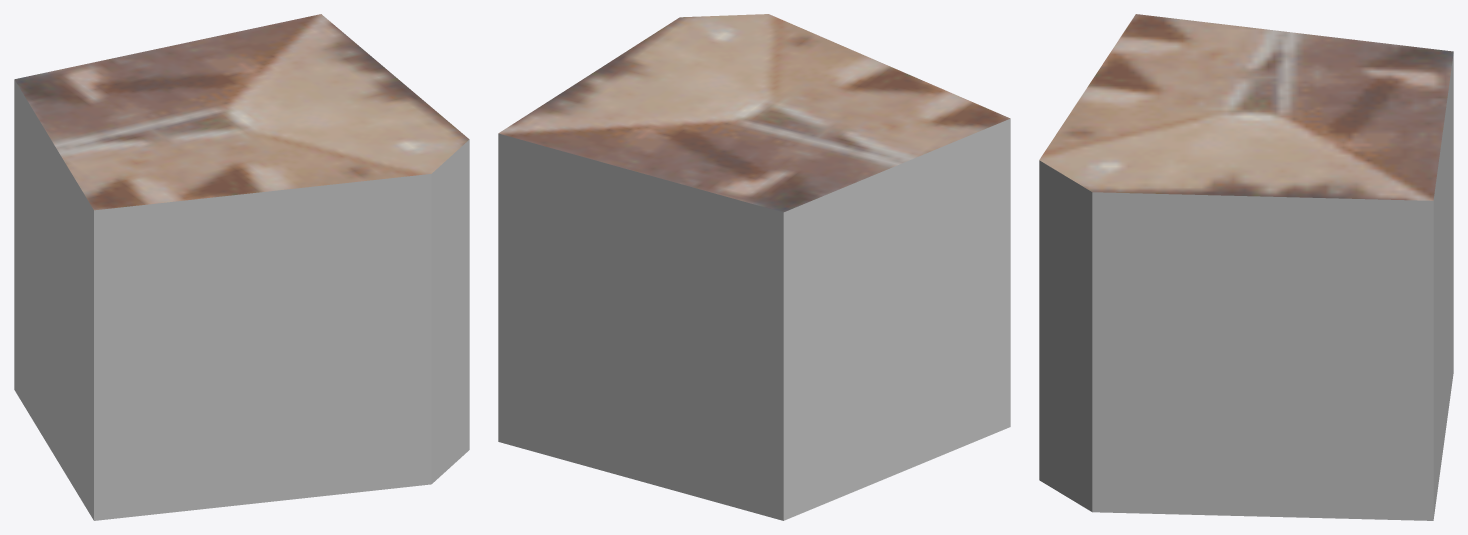
File: DEBW_0010007Tx62.gltf
3 views of the same model, side by side, from view 1: azimuth 30°, elevation 25°; view 2: azimuth 150°, elevation 25°; view 3: azimuth 270°, elevation 25° (orthographic). The views are drawn at different scales.
Parts seen in each view (by area): view 1: Z_UP; view 2: Z_UP; view 3: Z_UP.
Part boxes in pixels (left/top/right/bottom): Z_UP: left=14, top=14, right=469, bottom=520; Z_UP: left=498, top=14, right=1010, bottom=520; Z_UP: left=1039, top=14, right=1453, bottom=520.
Size of the model in its own units: 14.4 by 11.5 by 13.5.
2 materials, 1 textured.
